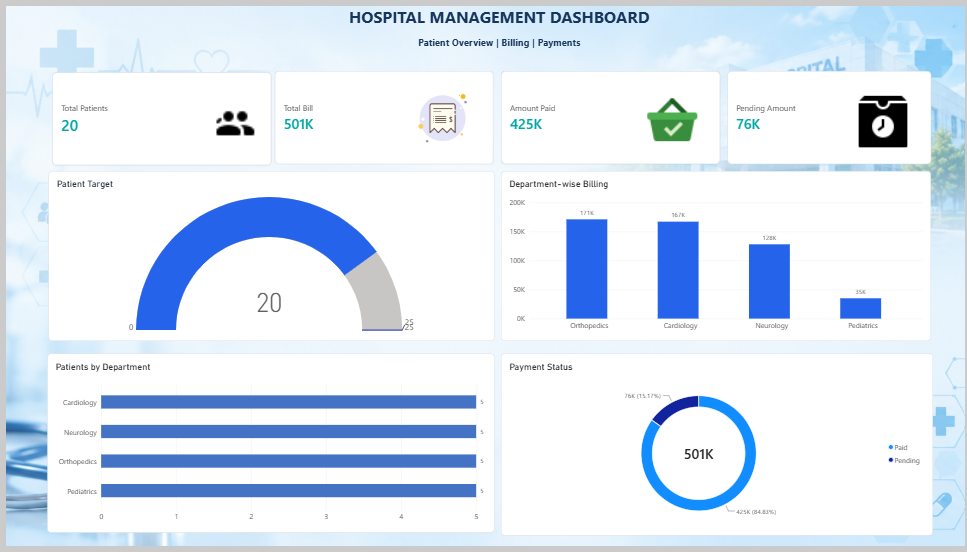

The dashboard page shown, as its layout file describes it:
{"tool":"powerbi","page":{"name":"Page 1","canvas":[2200,1080],"ordinal":0},"visuals":[{"type":"cardVisual","fields":{"Data":["Sheet1.total_patients"]},"box":[370.3,113.2,438,186],"z":0},{"type":"cardVisual","fields":{"Data":["Sheet1.total_bill"]},"box":[816,110.8,438,186],"z":1000},{"type":"cardVisual","fields":{"Data":["Sheet1.amount_paid"]},"box":[1275.9,110.8,438,186],"z":2000},{"type":"cardVisual","fields":{"Data":["Sheet1.pending_amount"]},"box":[1735.9,110.8,408,186],"z":3000},{"type":"clusteredBarChart","title":"Patients by Department","fields":{"Category":["Sheet1.Department"],"Y":["CountNonNull(Sheet1.PatientID)"]},"box":[360.9,674.5,894,358],"z":4000},{"type":"clusteredColumnChart","title":"Department-wise Billing","fields":{"Category":["Sheet1.Department"],"Y":["Sum(Sheet1.BillAmount)"]},"box":[1285.4,313.7,860,340],"z":5000},{"type":"donutChart","title":"Payment Status","fields":{"Category":["payment summary.Payment status"],"Y":["Sum(payment summary.Amount)"]},"box":[1275.9,669.8,864,364],"z":6000},{"type":"gauge","title":"Patient Target ","fields":{"MaxValue":["Sheet1.patient_target"],"MinValue":["Sheet1.gauge_Min"],"TargetValue":["Sheet1.patient_target"],"Y":["Sheet1.total_patients"]},"box":[363.2,313.7,892,340],"z":7000},{"type":"textbox","box":[52,0,1868,110],"z":8000},{"type":"image","box":[655.7,146.2,82,124],"z":9000},{"type":"image","box":[1108.5,141.5,146,124],"z":10000},{"type":"image","box":[1575.5,146.2,140,114],"z":11000},{"type":"image","box":[1976.4,141.5,128,122],"z":12000},{"type":"listSlicer","fields":{"Values":["Sheet1.Department"]},"box":[18.9,84.9,318,186],"z":12001},{"type":"listSlicer","fields":{"Values":["Sheet1.Gender"]},"box":[16.5,297.2,318.4,198.1],"z":12002},{"type":"listSlicer","fields":{"Values":["payment summary.Payment status"]},"box":[16.5,523.6,318.4,195.8],"z":12003},{"type":"listSlicer","fields":{"Values":["Sheet1.Doctor"]},"box":[16.5,750,318.4,283],"z":12004}]}

Visuals, with their boxes on the page's 2200x1080 design canvas (x1, y1, x2, y2). These are canvas units, not pixel positions in the 967x552 screenshot, which may show the page scaled, cropped or inside an application window:
cardVisual - Sheet1.total_patients: (left=370, top=113, right=808, bottom=299)
cardVisual - Sheet1.total_bill: (left=816, top=111, right=1254, bottom=297)
cardVisual - Sheet1.amount_paid: (left=1276, top=111, right=1714, bottom=297)
cardVisual - Sheet1.pending_amount: (left=1736, top=111, right=2144, bottom=297)
"Patients by Department" clusteredBarChart: (left=361, top=674, right=1255, bottom=1032)
"Department-wise Billing" clusteredColumnChart: (left=1285, top=314, right=2145, bottom=654)
"Payment Status" donutChart: (left=1276, top=670, right=2140, bottom=1034)
"Patient Target " gauge: (left=363, top=314, right=1255, bottom=654)
textbox: (left=52, top=0, right=1920, bottom=110)
image: (left=656, top=146, right=738, bottom=270)
image: (left=1108, top=142, right=1254, bottom=266)
image: (left=1576, top=146, right=1716, bottom=260)
image: (left=1976, top=142, right=2104, bottom=264)
listSlicer - Sheet1.Department: (left=19, top=85, right=337, bottom=271)
listSlicer - Sheet1.Gender: (left=16, top=297, right=335, bottom=495)
listSlicer - payment summary.Payment status: (left=16, top=524, right=335, bottom=719)
listSlicer - Sheet1.Doctor: (left=16, top=750, right=335, bottom=1033)
